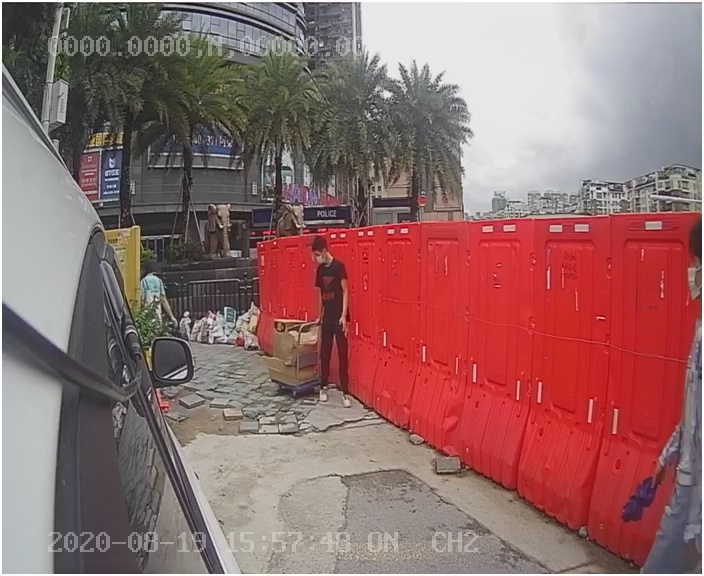person: (303, 234, 366, 415)
